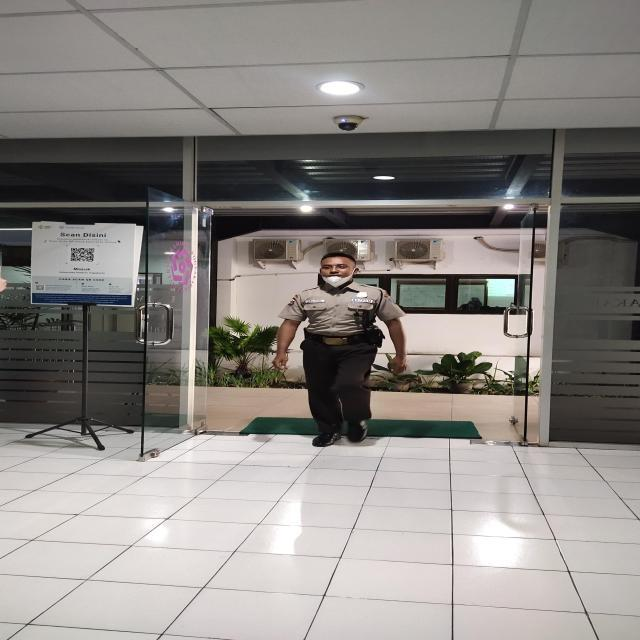hairnet: (317, 269, 357, 288)
